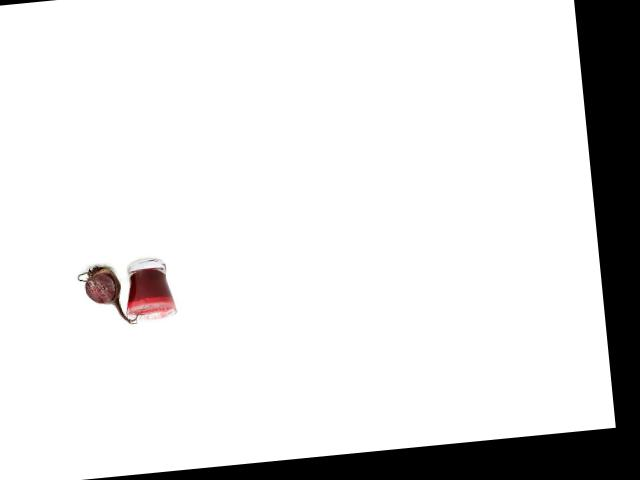beet: (77, 261, 145, 328)
